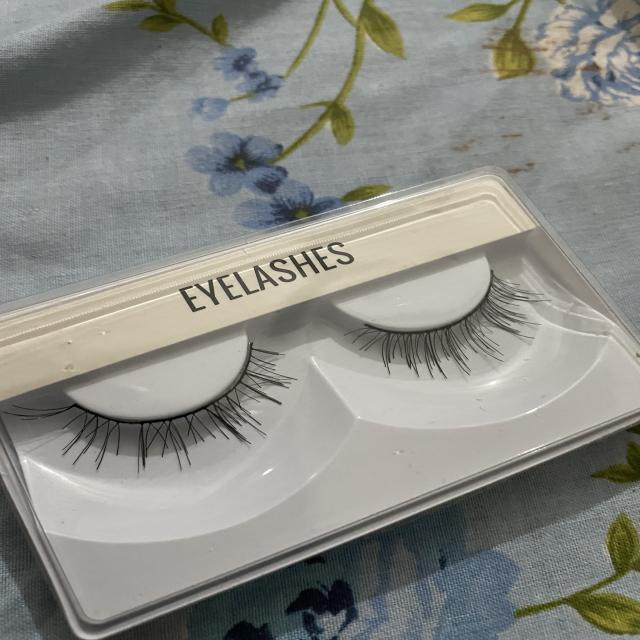eyelash curler: (7, 339, 326, 486), (346, 258, 583, 401)
